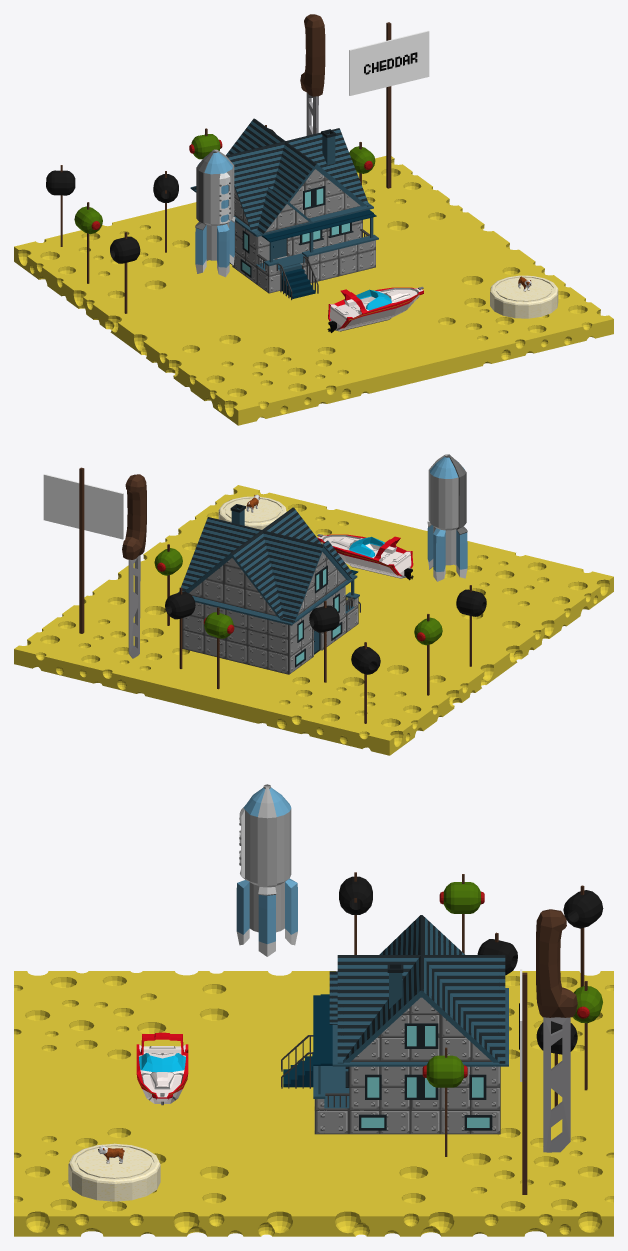
3 views of the same model, one above another, from view 1: azimuth 30°, elevation 25°; view 2: azimuth 150°, elevation 25°; view 3: azimuth 270°, elevation 25° (orthographic). The views are drawn at different scales.
Visible parts, largest first — view 1: Cube.022, Cube.078, Cube.023, OBJRANDOM_ROCKETSHIP, VEHICLES_BOAT, Cylinder.016, Cube.024, Sphere.017, Sphere.016, Sphere.018, Sphere.020, Sphere.022 (+1 smaller); view 2: Cube.022, Cube.078, Cube.023, OBJRANDOM_ROCKETSHIP, Cube.024, VEHICLES_BOAT, Cylinder.016, Sphere.021, Sphere.017, Sphere.020, Sphere.016, Sphere.022 (+2 smaller); view 3: Cube.022, Cube.078, OBJRANDOM_ROCKETSHIP, Cube.024, Cylinder.016, VEHICLES_BOAT, Cube.023, Sphere.016, Sphere.019, Sphere.018, Sphere.017, Sphere.022 (+2 smaller).
Part boxes in pixels (x1,y1,x2,y2): Cube.022: (14,156,613,425); Cube.078: (190,118,378,300); Cube.023: (349,22,429,188); OBJRANDOM_ROCKETSHIP: (195,149,235,277); VEHICLES_BOAT: (327,286,423,332); Cylinder.016: (490,275,558,318); Cube.024: (300,14,325,135); Sphere.017: (110,232,140,313); Sphere.016: (46,165,75,246); Sphere.018: (74,202,102,283); Sphere.020: (153,171,178,252); Sphere.022: (189,128,222,159); Cube.022: (14,485,613,755); Cube.078: (178,504,360,674); Cube.023: (43,467,123,633); OBJRANDOM_ROCKETSHIP: (427,454,467,581); Cube.024: (122,474,146,658); VEHICLES_BOAT: (317,534,413,580); Cylinder.016: (218,496,286,529); Sphere.021: (165,587,195,668); Sphere.017: (456,585,486,666); Sphere.020: (309,601,339,682); Sphere.016: (351,642,380,723); Sphere.022: (203,607,234,689); Cube.022: (14,971,613,1236); Cube.078: (281,915,508,1134); OBJRANDOM_ROCKETSHIP: (236,784,297,956); Cube.024: (536,909,577,1152); Cylinder.016: (68,1143,160,1201); VEHICLES_BOAT: (136,1032,188,1105); Cube.023: (519,969,527,1194); Sphere.016: (563,885,603,986); Sphere.019: (422,1047,467,1156); Sphere.018: (439,874,484,953); Sphere.017: (339,872,372,954); Sphere.022: (573,981,602,1090).
Bounding box in the file's own units: 3917 × 2010 × 4000.
Materials: 36 (5 with a texture image).
